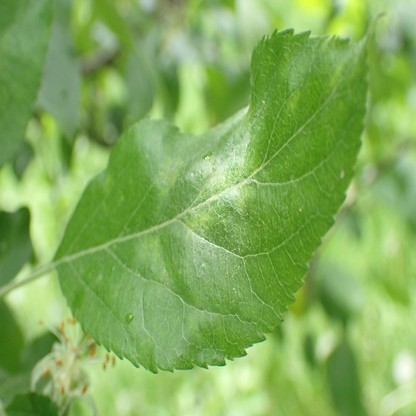scab: (160, 161, 181, 192)
